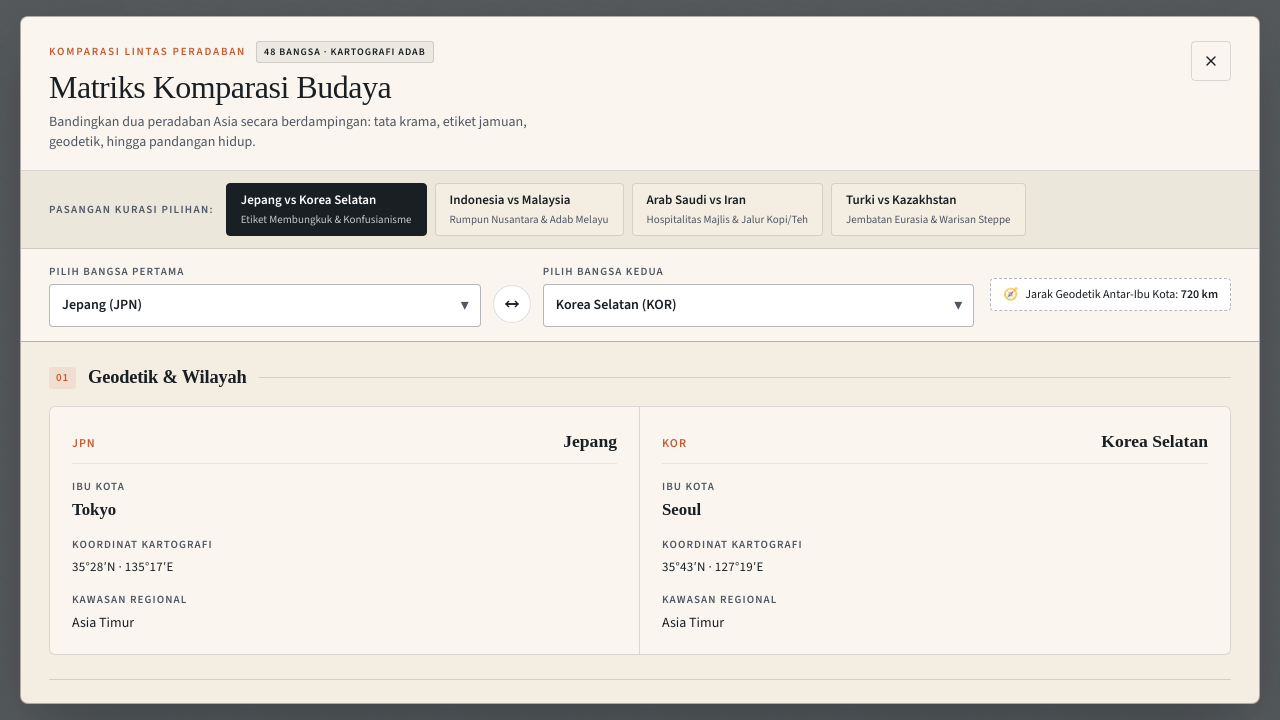
Test: CulturalComparisonMatrix Component › switches to Indonesia vs Malaysia when preset is clicked
Step 1. Click the button "Indonesia vs Malaysia Rumpun Nusantara & Adab Melayu" → [529, 210], box [434,183,624,236]
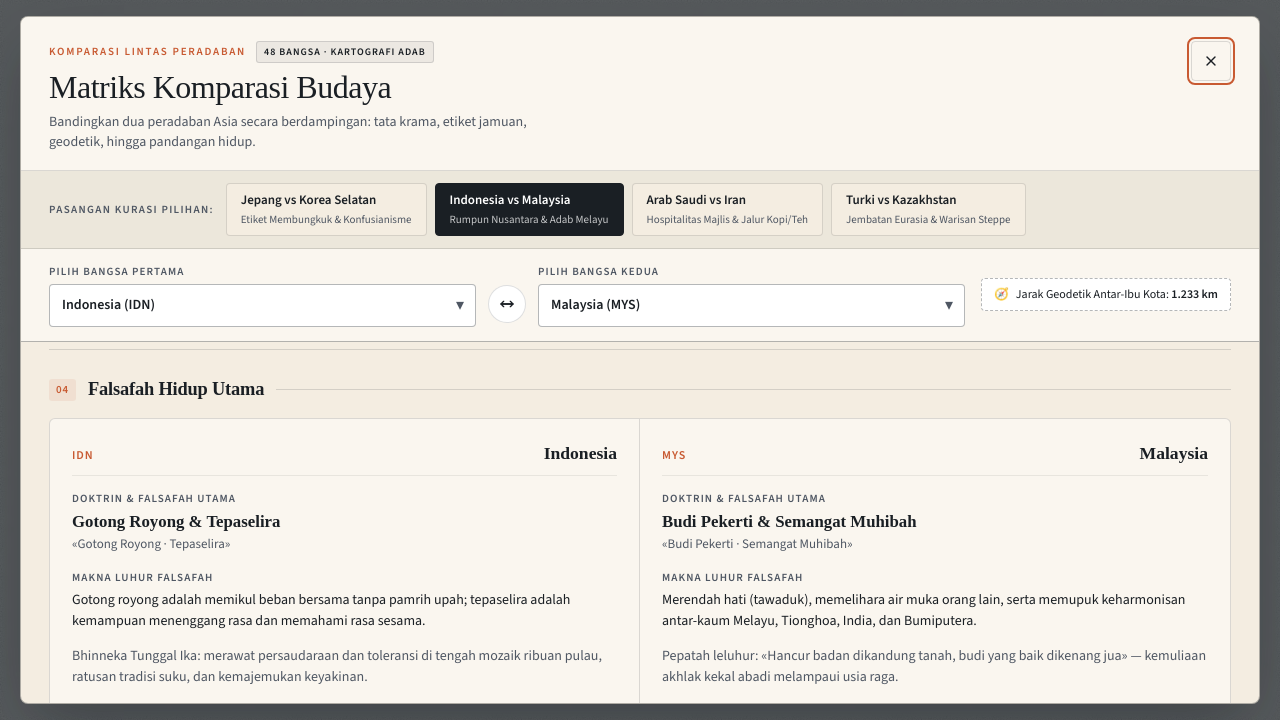
Expected: the text "Budi Pekerti & Semangat Muhibah" is shown, [662,512,916,531]
